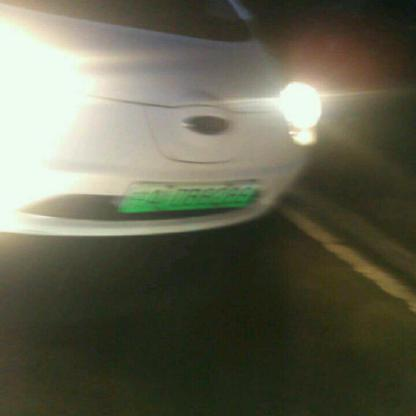lp: (118, 183, 260, 210)
